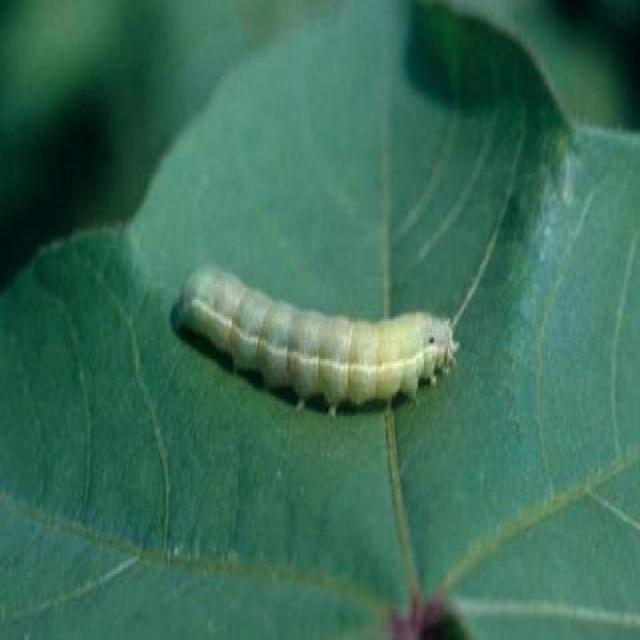army worm: (171, 253, 463, 416)
